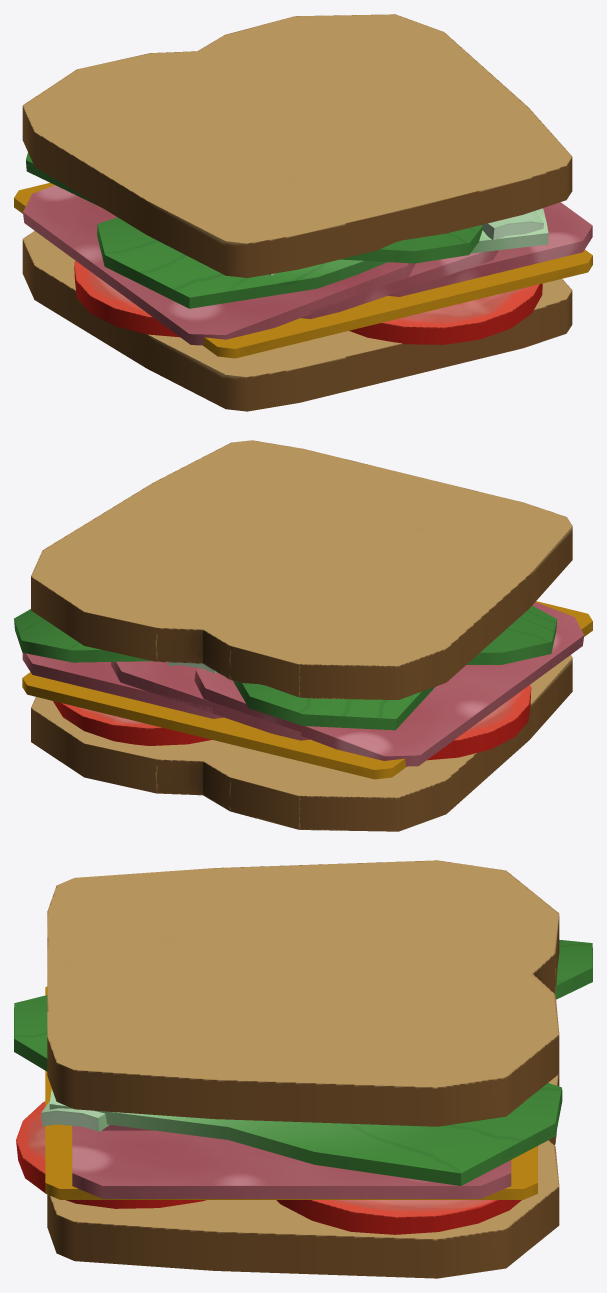
File: sandwitch.fbx
3 renders of one model, top to bottom at view 1: azimuth 30°, elevation 25°; view 2: azimuth 150°, elevation 25°; view 3: azimuth 270°, elevation 25°, orthographic. The views are drawn at different scales.
Visible parts, largest first — view 1: sandwitchUnbroken; view 2: sandwitchUnbroken; view 3: sandwitchUnbroken.
Boxes of the visible parts, x1=… form: sandwitchUnbroken: x1=14, y1=14, x2=592, y2=411; sandwitchUnbroken: x1=14, y1=440, x2=592, y2=831; sandwitchUnbroken: x1=14, y1=860, x2=592, y2=1278.
Bounding box in the file's own units: 52.58 × 18.88 × 51.9.
